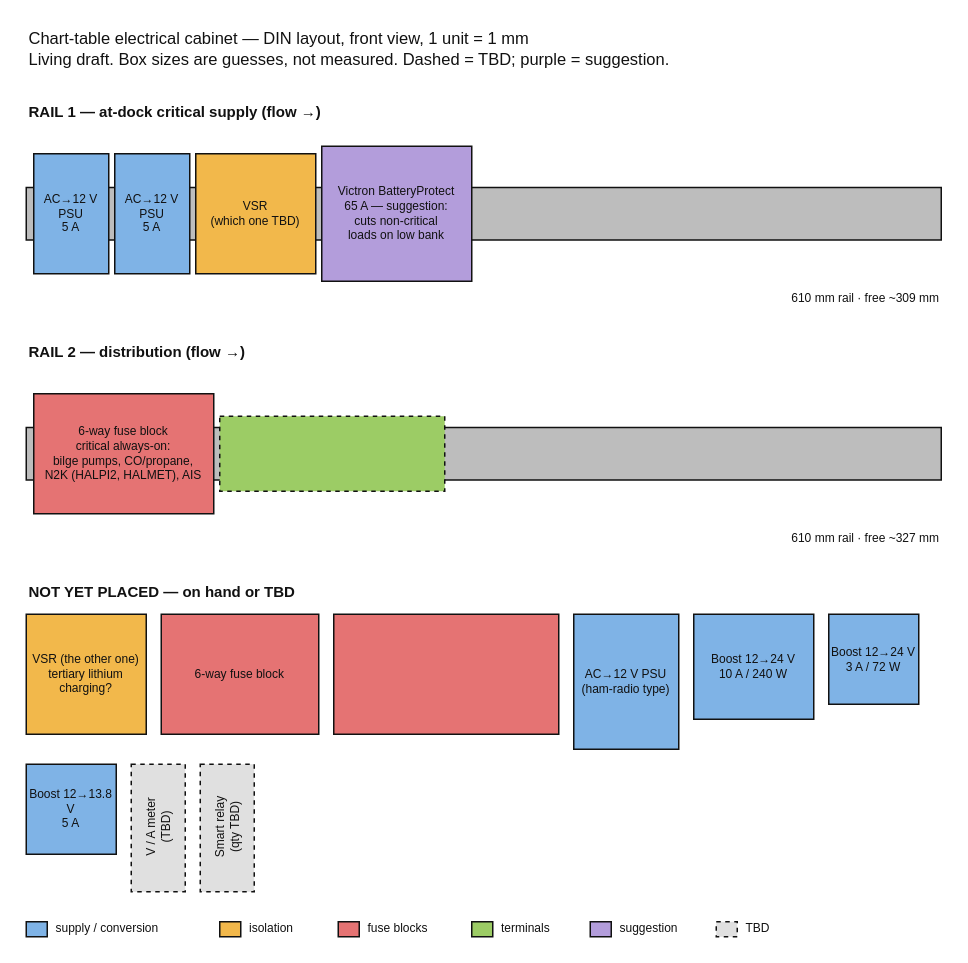
Some shapes in this 968 by 963 pixel diagram are drawn without their labels. Here are the shapes that lost their labels. From the top down, the centre of each, then its label:
At [331,453]: "Lever terminals (TBD) old nav-desk circuits as they are rewired".
At [445,673]: "12-way fuse block (option)".
